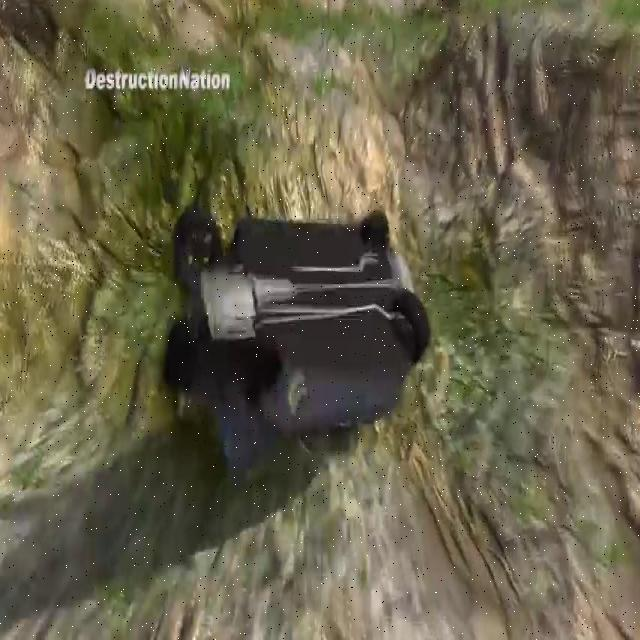severe: (165, 196, 429, 460)
